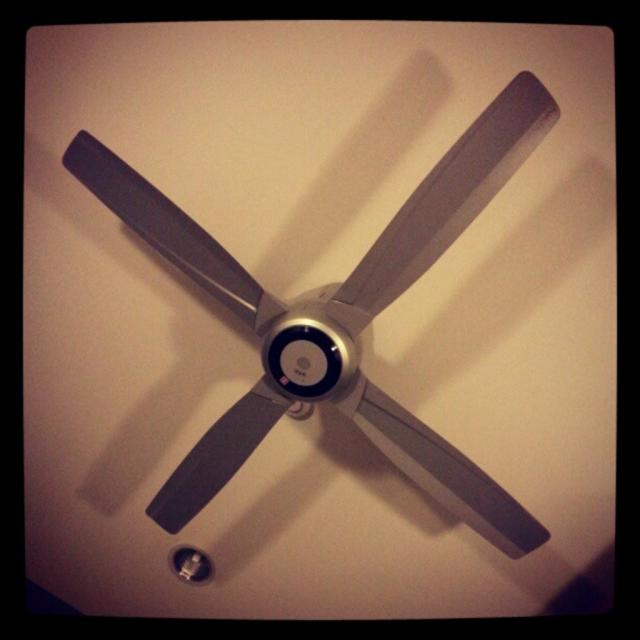Bulb: (61, 66, 551, 562)
